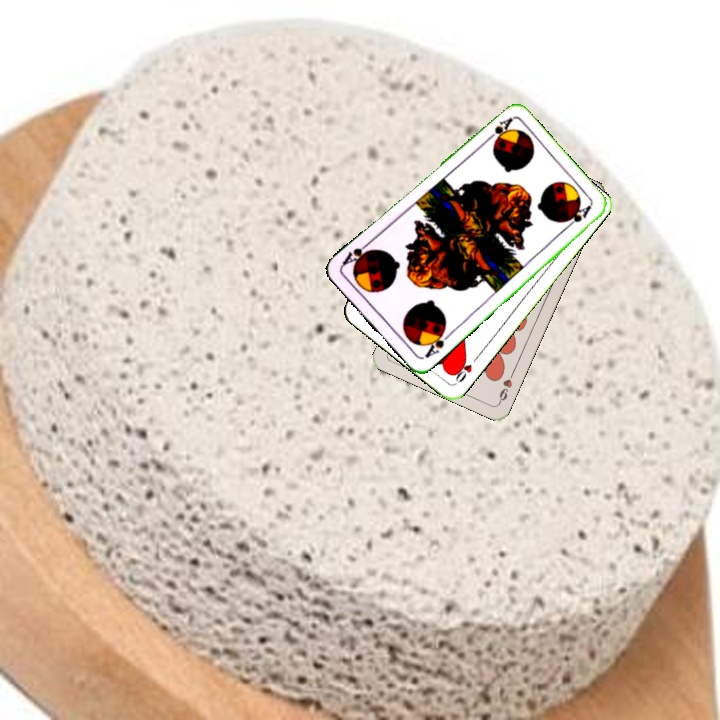H9: (495, 367, 517, 405)
HO: (449, 352, 481, 386)
SA: (420, 325, 453, 361), (481, 113, 515, 145)
